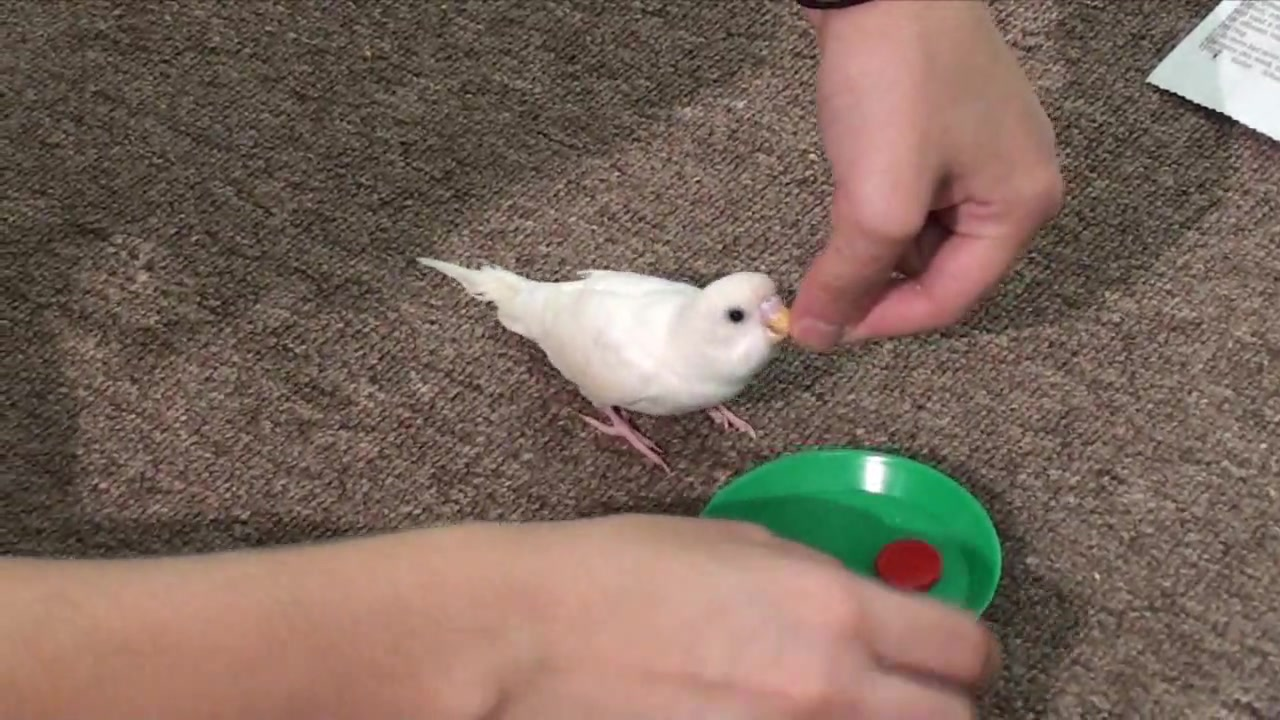bird: (419, 257, 791, 478)
